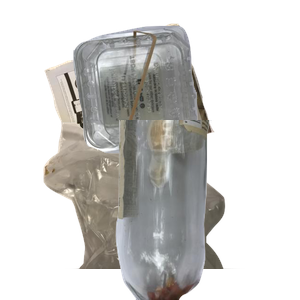glass: (113, 120, 300, 300)
paper: (42, 21, 249, 181)
plastic: (71, 23, 300, 169)
trash: (41, 120, 276, 300)
